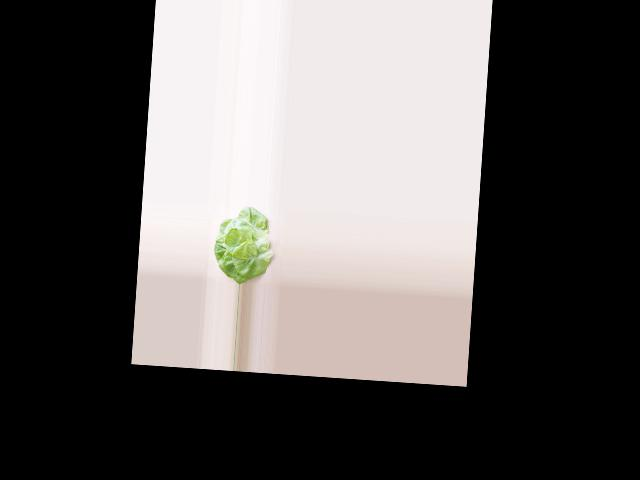lettuce: (212, 206, 274, 284)
